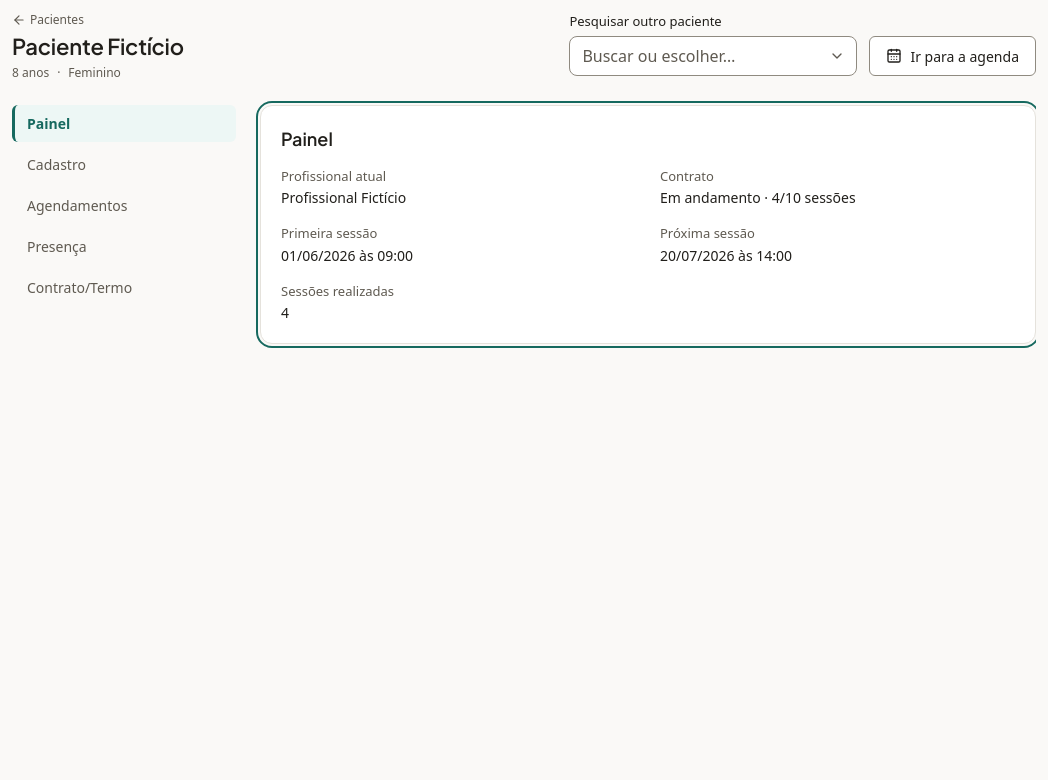
Test: Ficha do paciente — casca › deve navegar entre seções pela navegação lateral
The width and height of the screenshot is (1048, 780).
Expected: the heading "Paciente Fictício" is shown, [12,32,184,61]
// ACT — abre Agendamentos
Click the link "Agendamentos": (77, 206) [27,196,127,215]
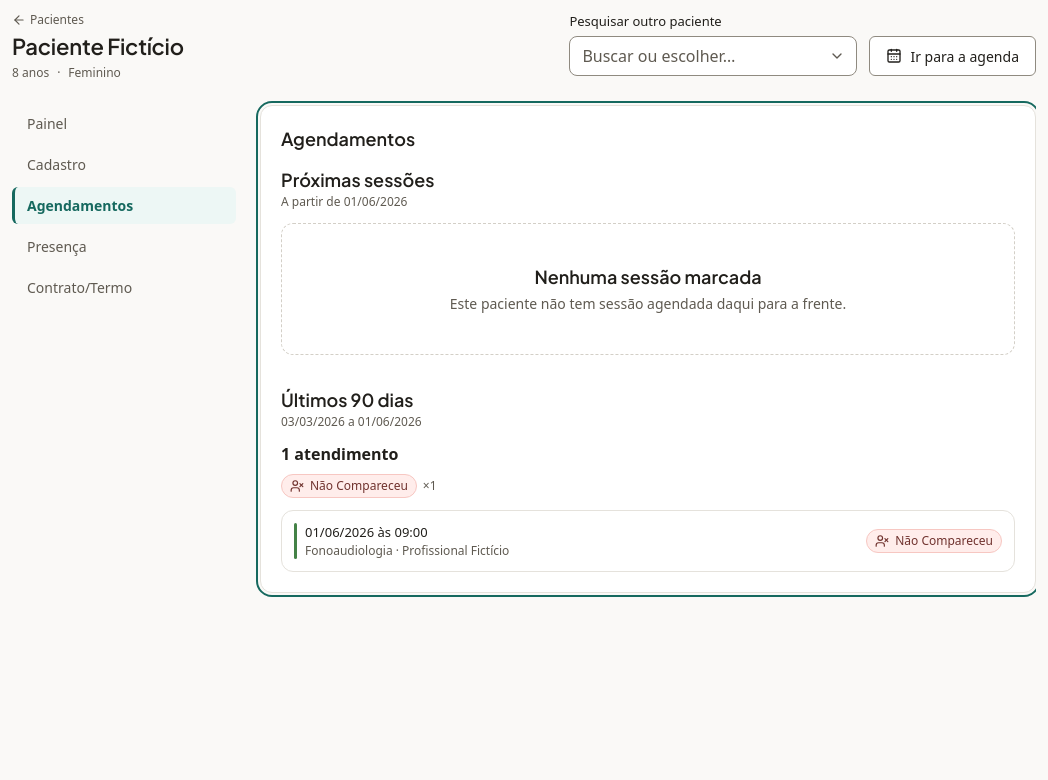
Now the text "1 atendimento" is shown, box [281,443,398,465]
Now the text "Não Compareceu" below "atendimento" is shown, box [310,477,408,494]
